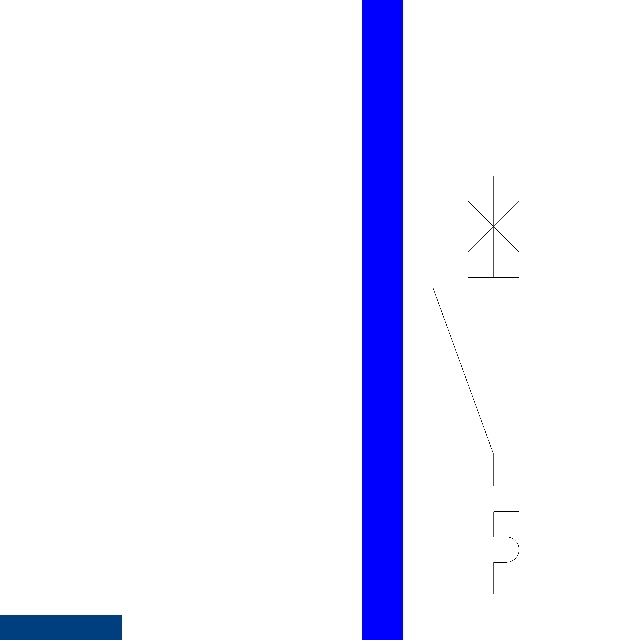interruptor_termomagnetico: (422, 165, 530, 605)
